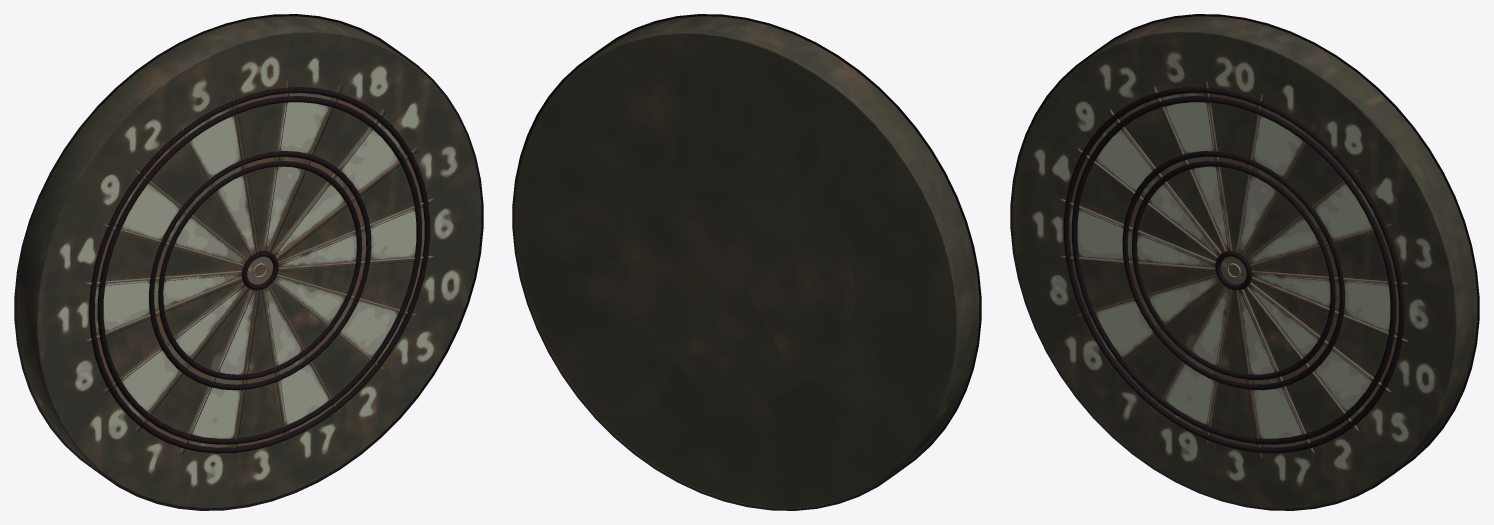
Rendered from SM_Int_Dartboard.fbx.
3 renders of one model, left to right at view 1: azimuth 30°, elevation 25°; view 2: azimuth 150°, elevation 25°; view 3: azimuth 330°, elevation 25°, orthographic.
Parts seen in each view (by area): view 1: SM_Int_Dartboard; view 2: SM_Int_Dartboard; view 3: SM_Int_Dartboard.
Boxes of the visible parts, x1=… form: SM_Int_Dartboard: x1=14, y1=14, x2=483, y2=510; SM_Int_Dartboard: x1=512, y1=14, x2=981, y2=510; SM_Int_Dartboard: x1=1010, y1=14, x2=1479, y2=510.
Size of the model in its own units: 0.4546 by 0.4546 by 0.0436.
